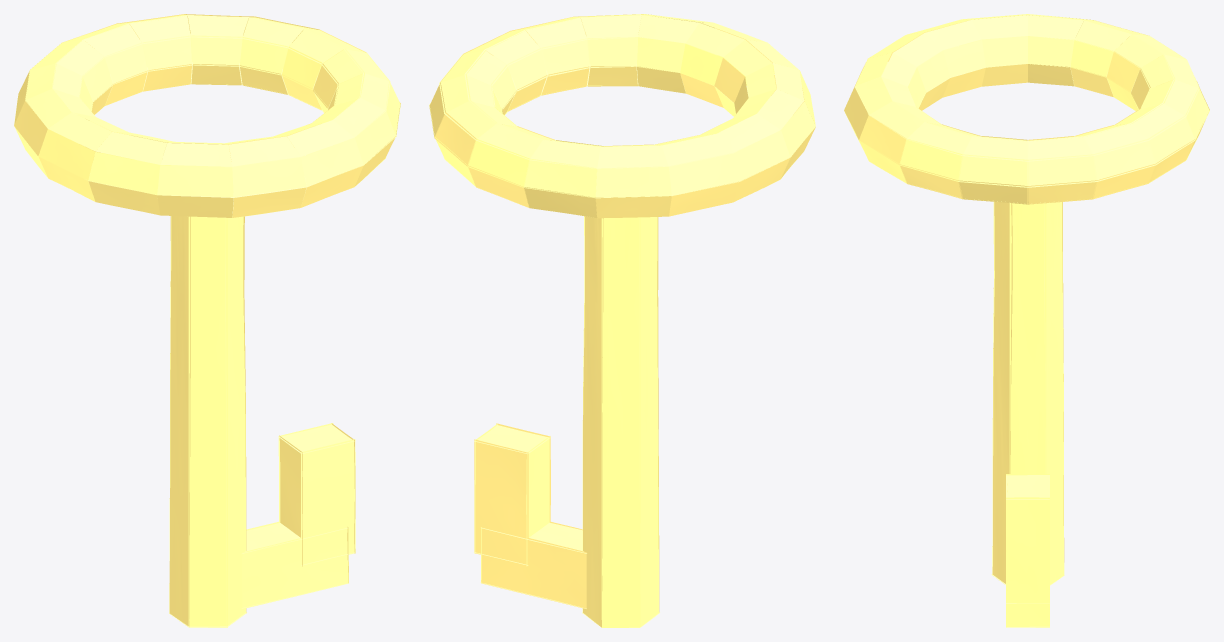
File: key.glb
3 renders of one model, left to right at view 1: azimuth 30°, elevation 25°; view 2: azimuth 150°, elevation 25°; view 3: azimuth 270°, elevation 25°, orthographic. The views are drawn at different scales.
Parts seen in each view (by area): view 1: KeyRing; view 2: KeyRing; view 3: KeyRing.
Part boxes in pixels (x1=…): KeyRing: x1=14, y1=14, x2=400, y2=627; KeyRing: x1=429, y1=14, x2=815, y2=627; KeyRing: x1=844, y1=14, x2=1209, y2=627.
Size of the model in its own units: 0.4964 by 0.7512 by 0.4991.
